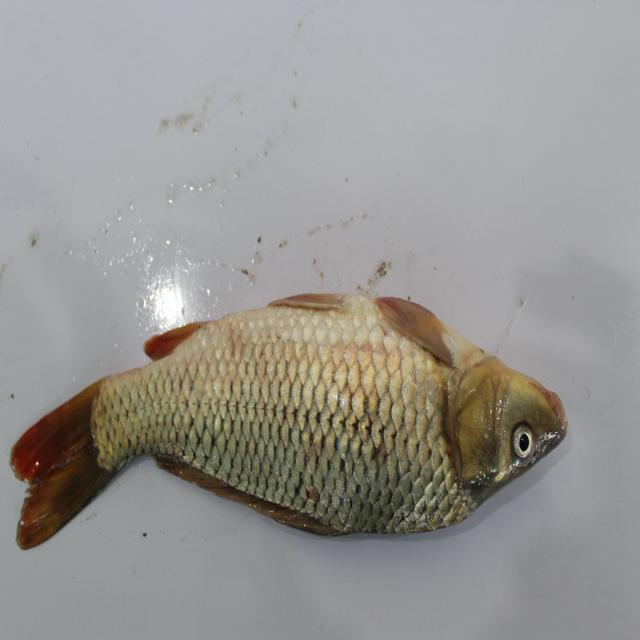CommonCarp: (4, 281, 574, 555)
